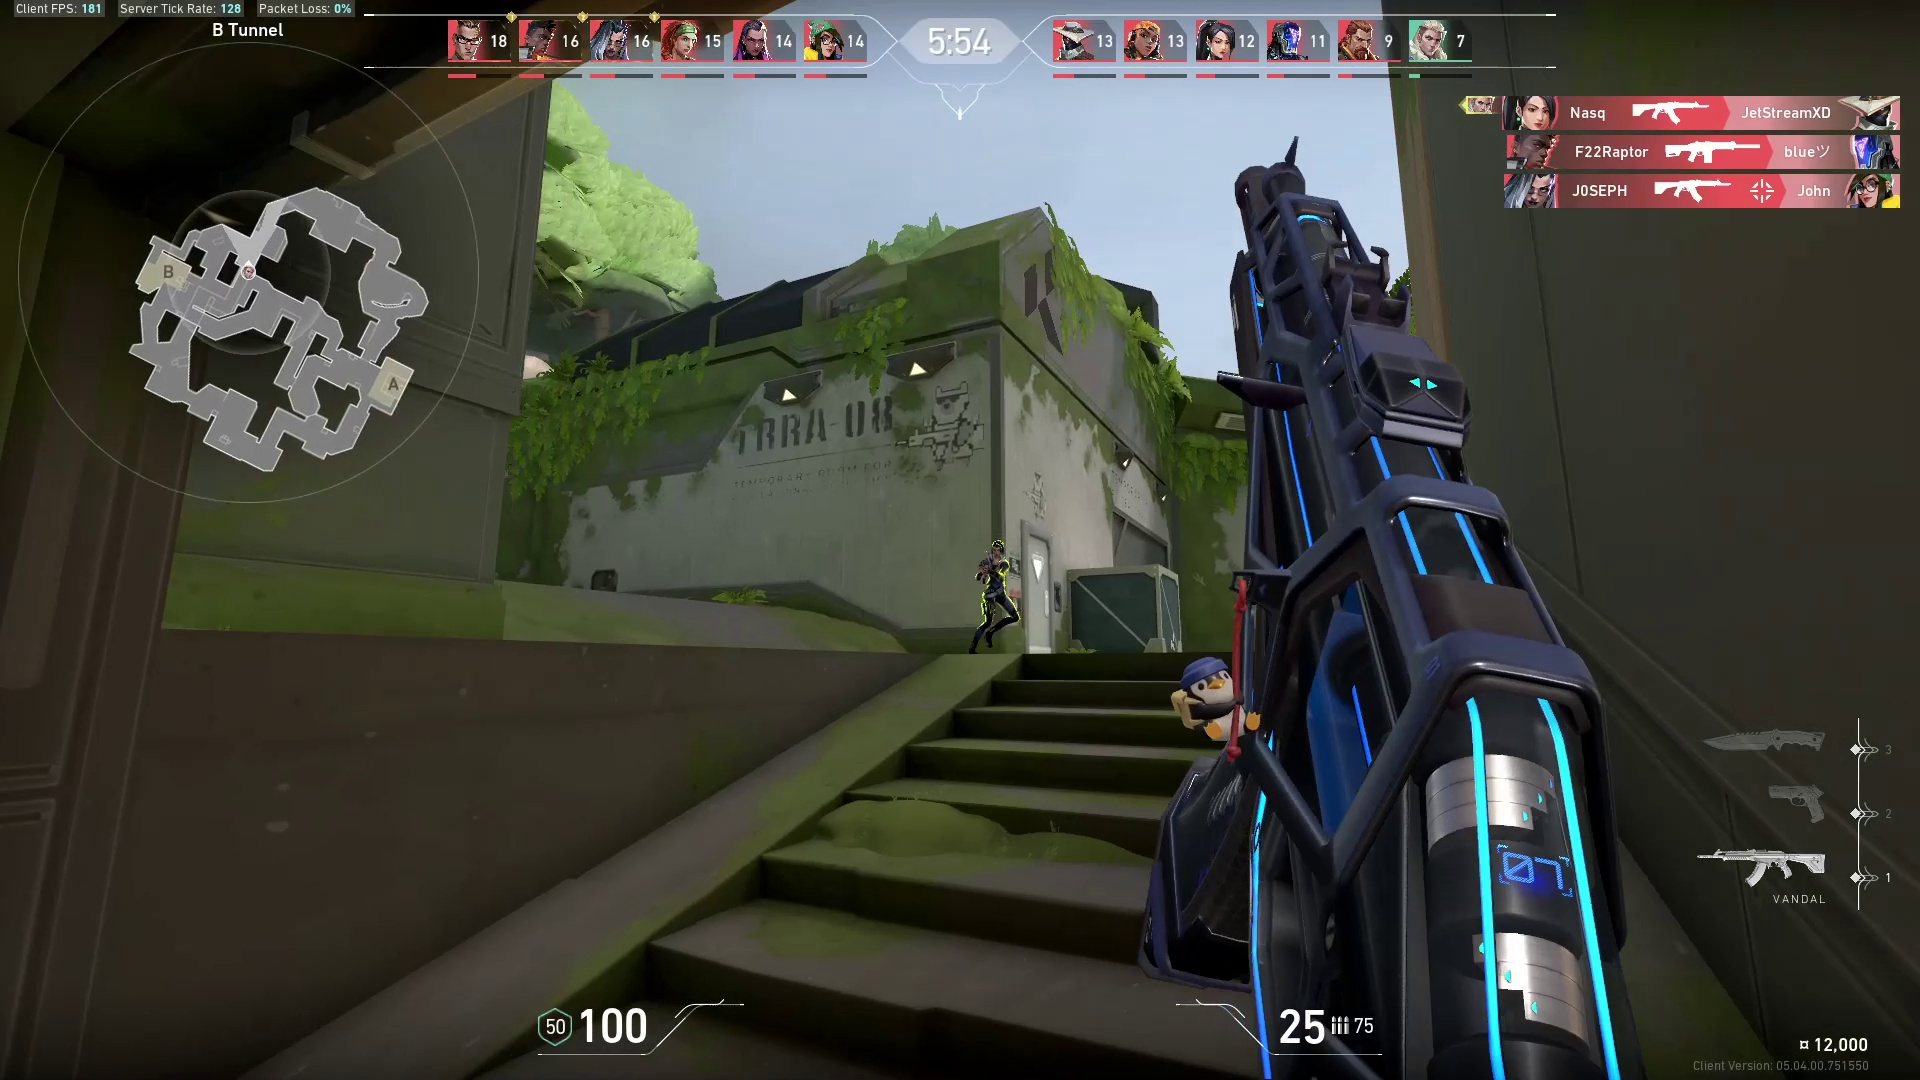enemy_body: (970, 557, 1030, 654)
enemy_head: (983, 532, 1012, 561)
